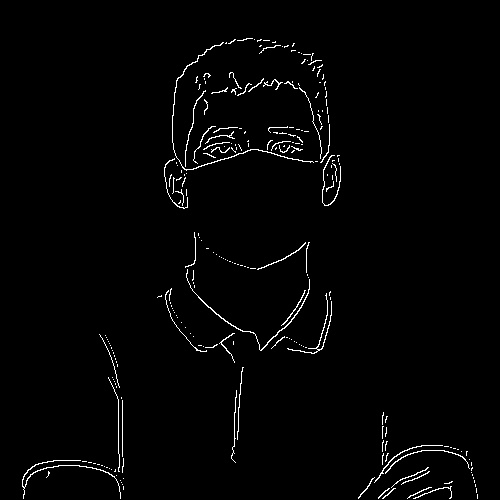mask: (183, 157, 331, 267)
